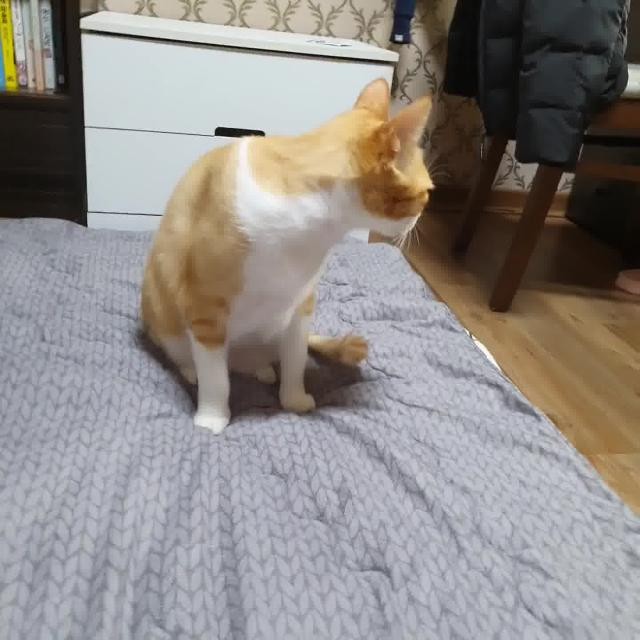cat: (119, 41, 452, 444)
